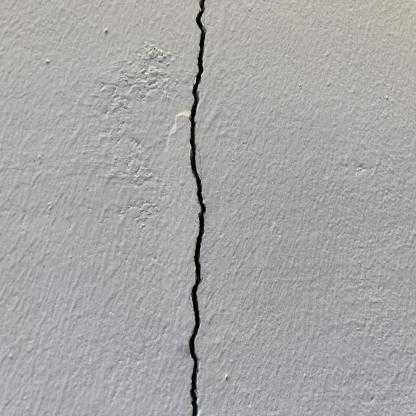crack: (188, 0, 206, 416)
